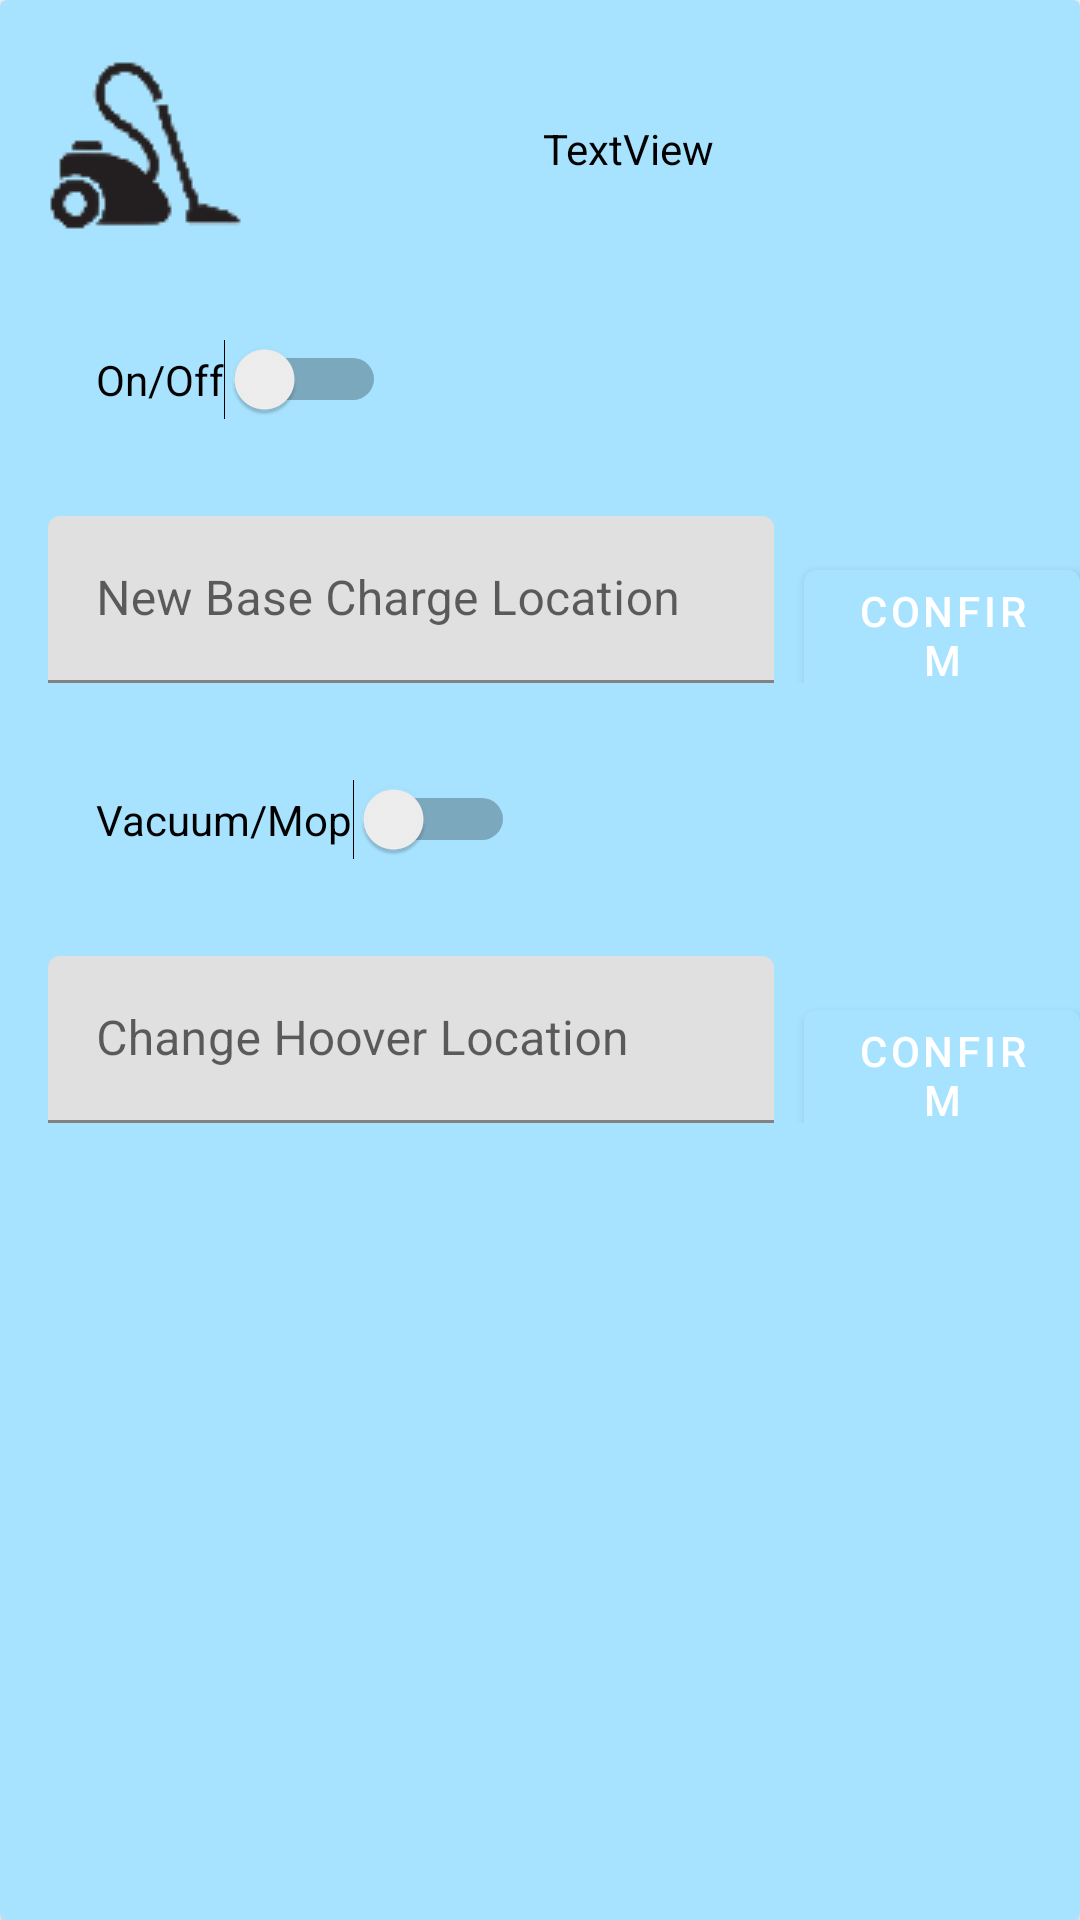

Named icons in this screenshot (1080x1920) and their bounding boxes, region(x1, y1, x2, y2):
hoover: region(50, 62, 241, 229)
